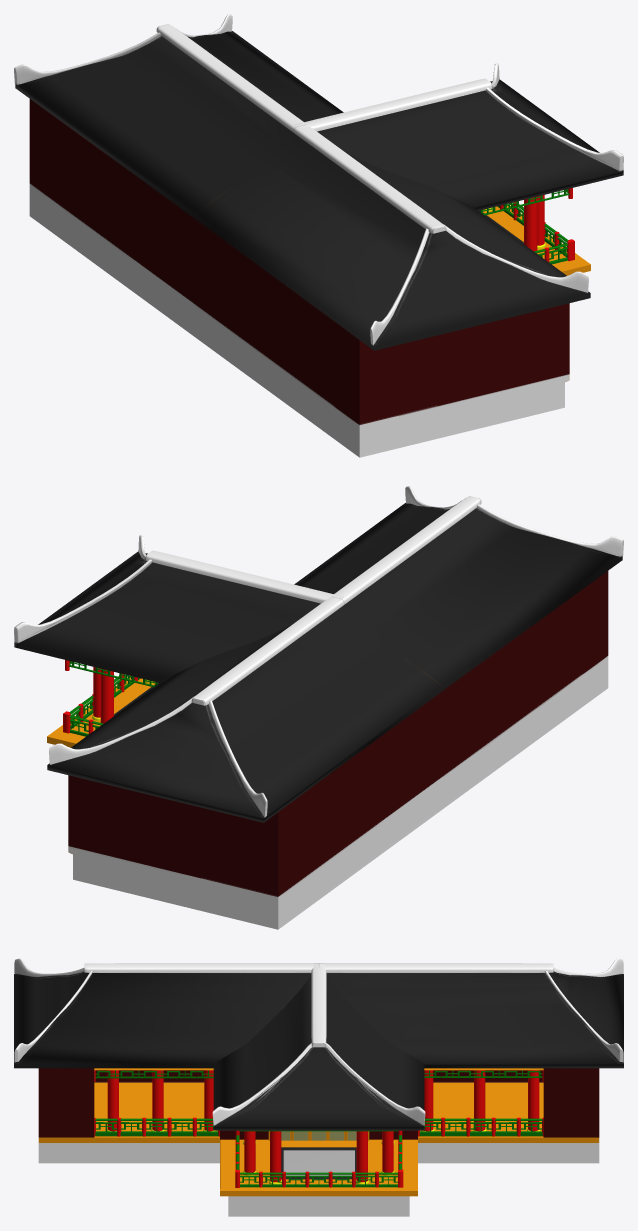
The model's file is CaligraphyHouse.fbx.
The picture shows the model from 3 angles, top to bottom: view 1: azimuth 30°, elevation 25°; view 2: azimuth 150°, elevation 25°; view 3: azimuth 270°, elevation 25°; orthographic projection. The views are drawn at different scales.
Visible parts, largest first — view 1: RestofHouse, Boarders, Pillars; view 2: RestofHouse, Boarders, Pillars; view 3: RestofHouse, Boarders, Pillars.
Boxes of the visible parts, left/top/right/bottom form: RestofHouse: left=14, top=14, right=623, bottom=457; Boarders: left=480, top=188, right=574, bottom=264; Pillars: left=483, top=195, right=545, bottom=253; RestofHouse: left=14, top=486, right=623, bottom=929; Boarders: left=63, top=660, right=157, bottom=736; Pillars: left=92, top=667, right=154, bottom=725; RestofHouse: left=14, top=958, right=623, bottom=1216; Boarders: left=94, top=1070, right=543, bottom=1187; Pillars: left=107, top=1070, right=540, bottom=1184.
Size of the model in its own units: 592 by 284 by 998.
